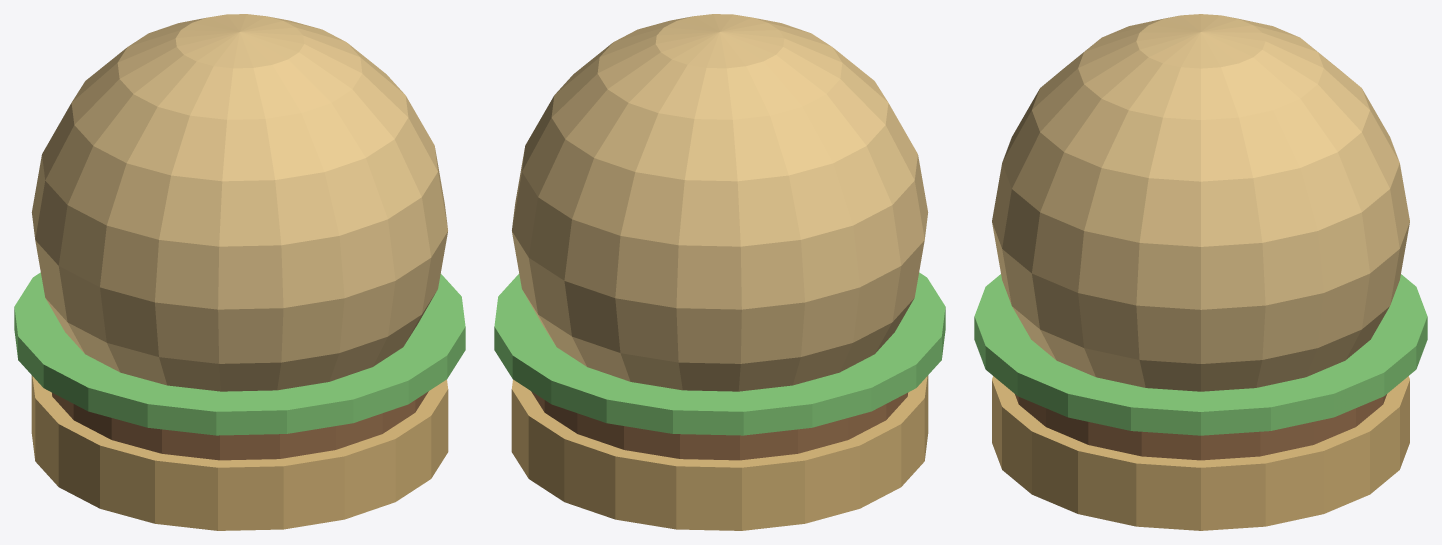
The model's file is burger.glb.
The picture shows the model from 3 angles, left to right: view 1: azimuth 30°, elevation 25°; view 2: azimuth 150°, elevation 25°; view 3: azimuth 270°, elevation 25°; orthographic projection.
Bounding box in the file's own units: 0.26 × 0.26 × 0.26.
